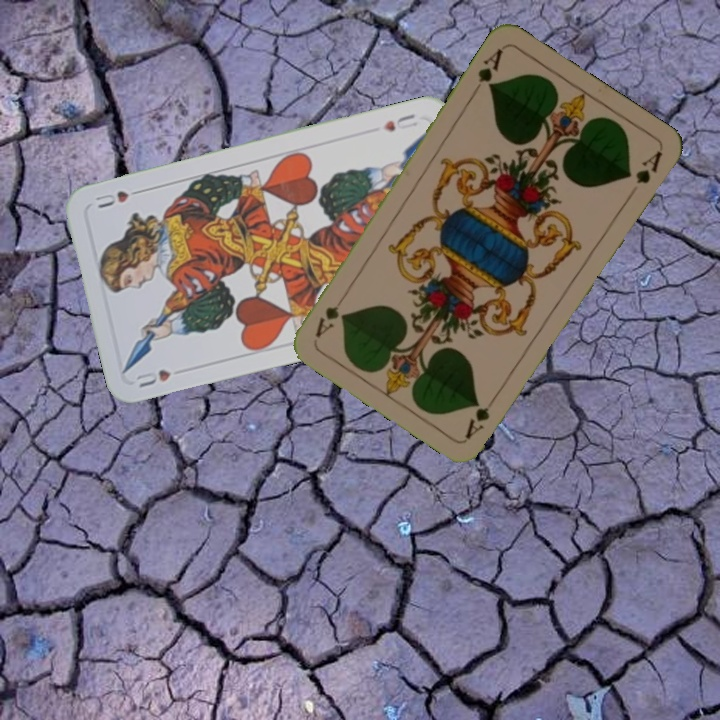GA: (461, 389, 501, 441), (468, 44, 506, 97)
HU: (132, 365, 174, 390), (379, 109, 420, 134)
